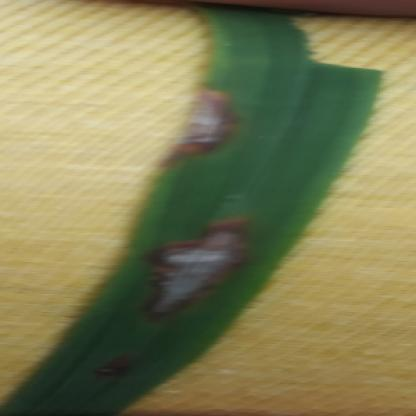Rice blast: (122, 188, 267, 334), (158, 66, 253, 167), (81, 353, 151, 398)
